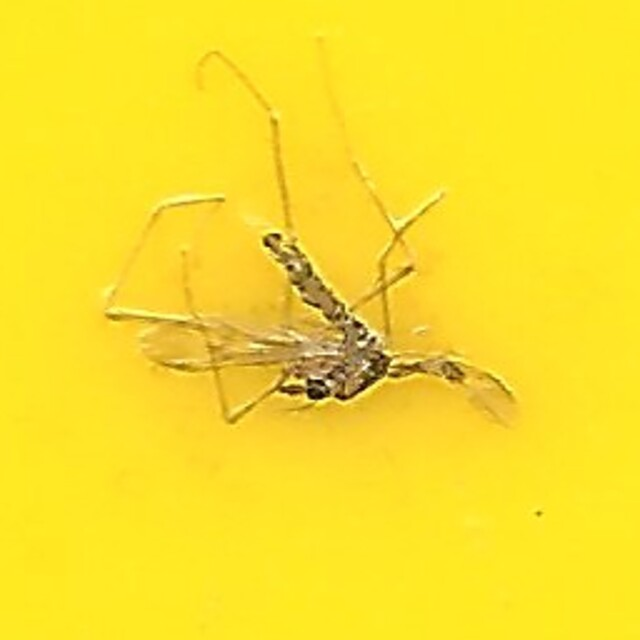Nematocera: (250, 225, 390, 415)
